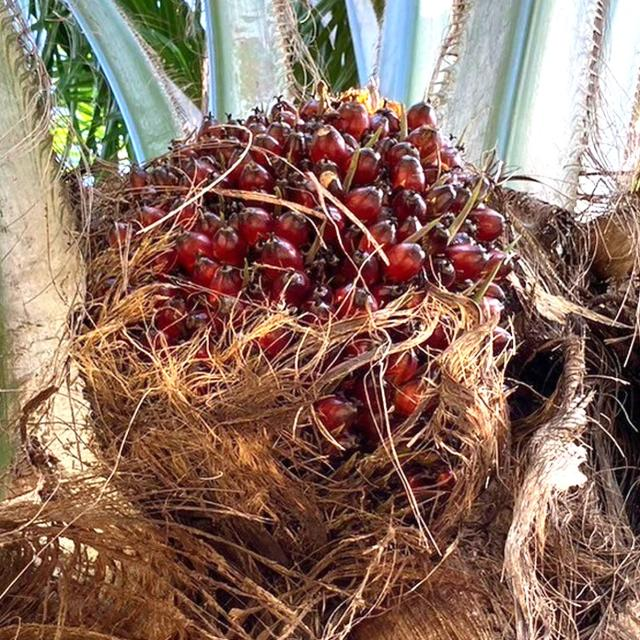ripe: (92, 91, 505, 514)
